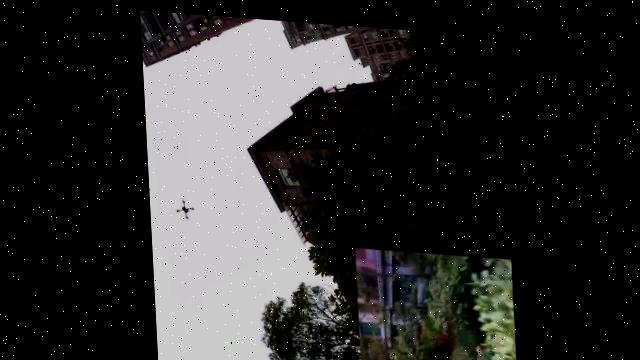drone: (156, 183, 199, 217)
